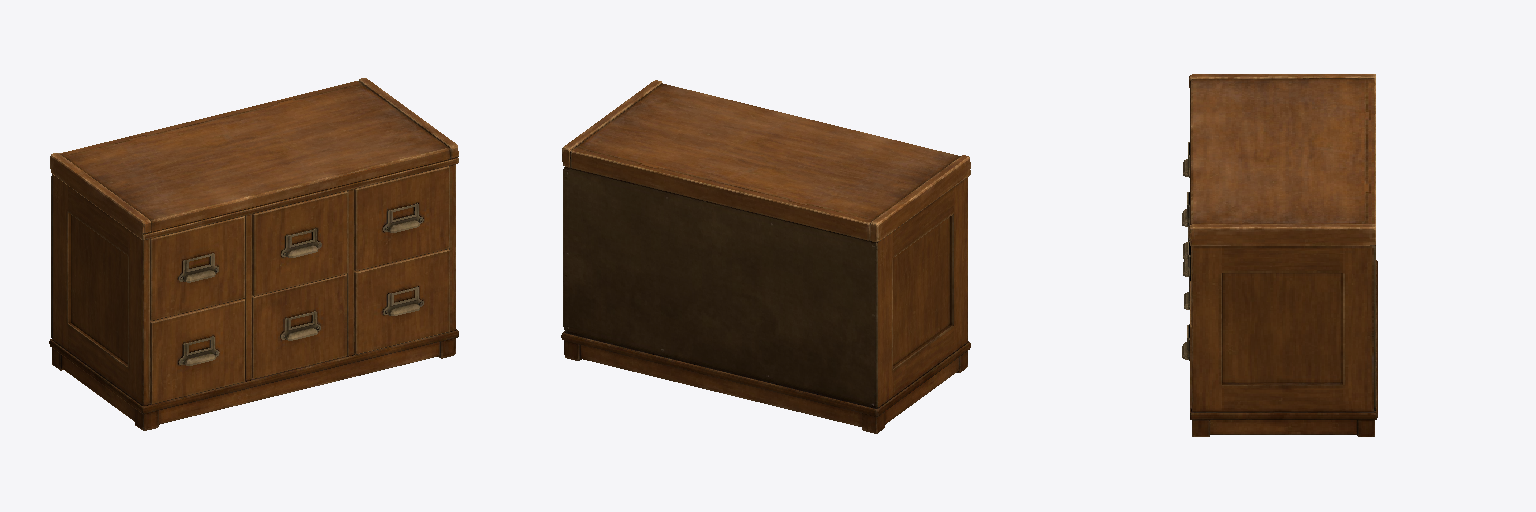
3 renders of one model, left to right at view 1: azimuth 30°, elevation 25°; view 2: azimuth 150°, elevation 25°; view 3: azimuth 270°, elevation 25°, orthographic.
Visible parts, largest first — view 1: vintage_wooden_drawer_01_body, vintage_wooden_drawer_01_drawer06, vintage_wooden_drawer_01_drawer02, vintage_wooden_drawer_01_drawer03, vintage_wooden_drawer_01_drawer04, vintage_wooden_drawer_01_drawer01, vintage_wooden_drawer_01_drawer05; view 2: vintage_wooden_drawer_01_body; view 3: vintage_wooden_drawer_01_body.
Part boxes in pixels (x1,y1,x2,y2): vintage_wooden_drawer_01_body: (49, 78, 458, 430); vintage_wooden_drawer_01_drawer06: (354, 249, 449, 354); vintage_wooden_drawer_01_drawer02: (252, 191, 347, 296); vintage_wooden_drawer_01_drawer03: (354, 166, 449, 270); vintage_wooden_drawer_01_drawer04: (150, 299, 244, 403); vintage_wooden_drawer_01_drawer01: (150, 216, 244, 320); vintage_wooden_drawer_01_drawer05: (252, 274, 346, 378); vintage_wooden_drawer_01_body: (561, 80, 970, 433); vintage_wooden_drawer_01_body: (1189, 74, 1377, 436).
Bounding box in the file's own units: 0.8576 × 0.5454 × 0.4574.
1 materials, 1 textured.